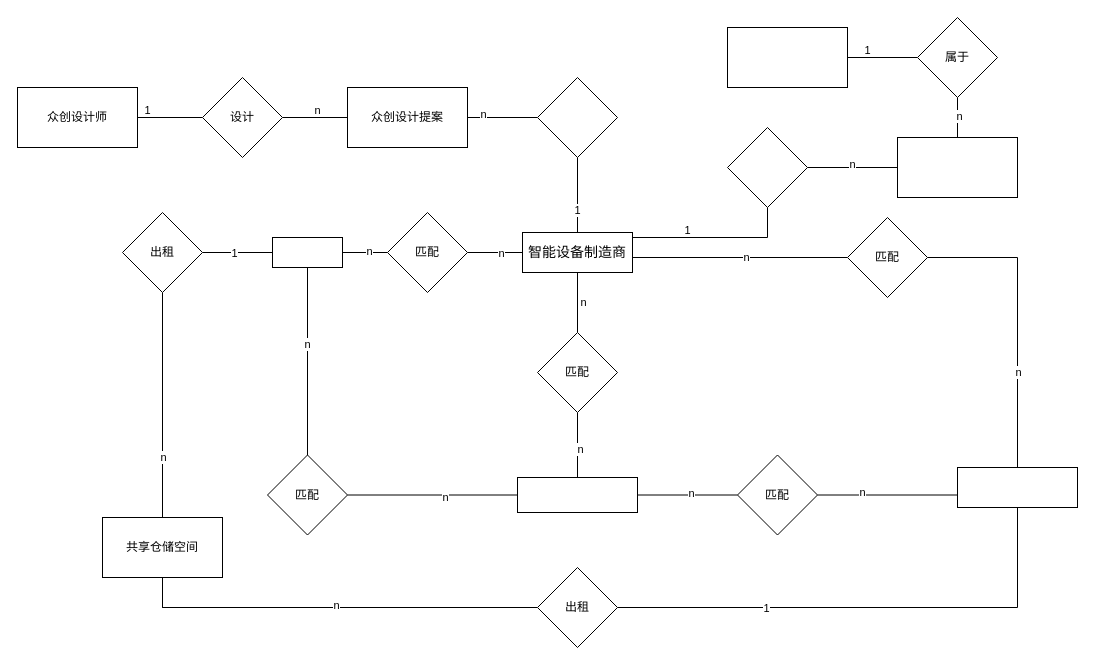
The diagram is 1095 pixels wide and 665 high, and some of its shapes have lost their labels. Each missing label, with the centre of its shape:
"分销商" goes at (x=307, y=252).
"原材料供应商" goes at (x=1017, y=487).
"拥有" goes at (x=767, y=167).
"智能设备单品" goes at (x=957, y=167).
"智能设备类别" goes at (x=787, y=57).
"物流服务商" goes at (x=577, y=494).
"采纳" goes at (x=577, y=117).
